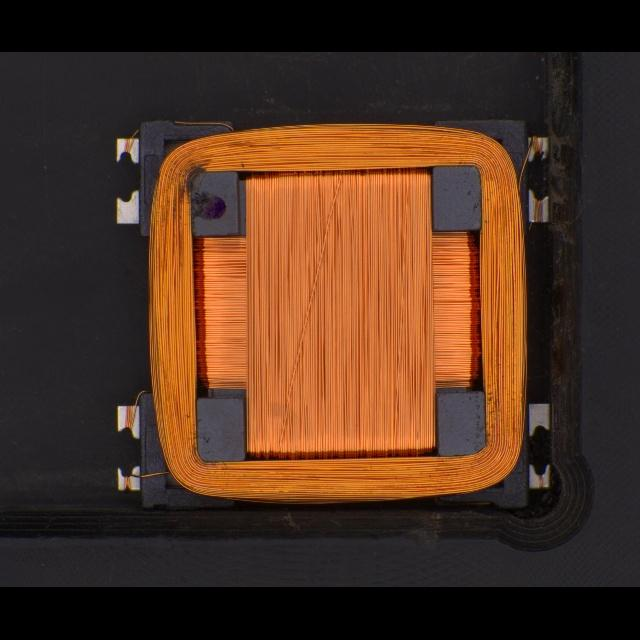Winding_Z: (117, 118, 531, 508)
